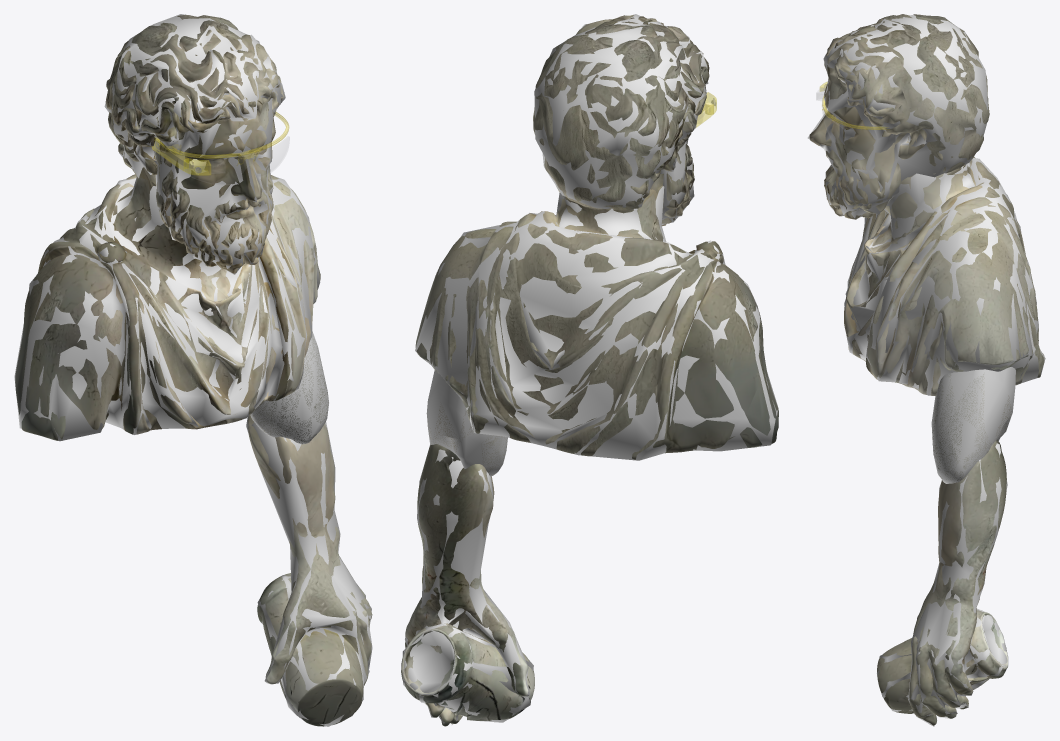
The picture shows the model from 3 angles, left to right: view 1: azimuth 30°, elevation 25°; view 2: azimuth 150°, elevation 25°; view 3: azimuth 270°, elevation 25°; orthographic projection. The views are drawn at different scales.
Parts seen in each view (by area): view 1: root.1, body-fake, root.0, root.3, head-fake, arm-and-can-fake, upper-arm-fake, lens, frame.002, root.002; view 2: root.1, body-fake, root.0, root.3, head-fake, arm-and-can-fake, upper-arm-fake; view 3: root.1, root.0, body-fake, root.3, head-fake, upper-arm-fake, arm-and-can-fake, root.002.
Part boxes in pixels (bbox=[...]): root.1: bbox=[15, 167, 320, 440]; body-fake: bbox=[14, 175, 320, 441]; root.0: bbox=[105, 14, 284, 273]; root.3: bbox=[248, 415, 372, 726]; head-fake: bbox=[104, 14, 285, 274]; arm-and-can-fake: bbox=[246, 416, 372, 726]; upper-arm-fake: bbox=[250, 331, 328, 444]; lens: bbox=[189, 137, 289, 184]; frame.002: bbox=[152, 112, 288, 175]; root.002: bbox=[251, 336, 328, 443]; root.1: bbox=[415, 185, 778, 460]; body-fake: bbox=[415, 186, 778, 460]; root.0: bbox=[533, 15, 709, 226]; root.3: bbox=[401, 444, 534, 726]; head-fake: bbox=[534, 14, 708, 224]; arm-and-can-fake: bbox=[402, 449, 533, 726]; upper-arm-fake: bbox=[426, 370, 507, 476]; root.1: bbox=[844, 157, 1044, 395]; root.0: bbox=[809, 14, 989, 219]; body-fake: bbox=[844, 158, 1045, 395]; root.3: bbox=[877, 440, 1007, 725]; head-fake: bbox=[807, 15, 988, 218]; upper-arm-fake: bbox=[931, 367, 1015, 483]; arm-and-can-fake: bbox=[877, 443, 1008, 726]; root.002: bbox=[932, 374, 1011, 482].
Bounding box in the file's own units: 1.46 × 2.85 × 0.9642.
4 materials, 2 textured.
